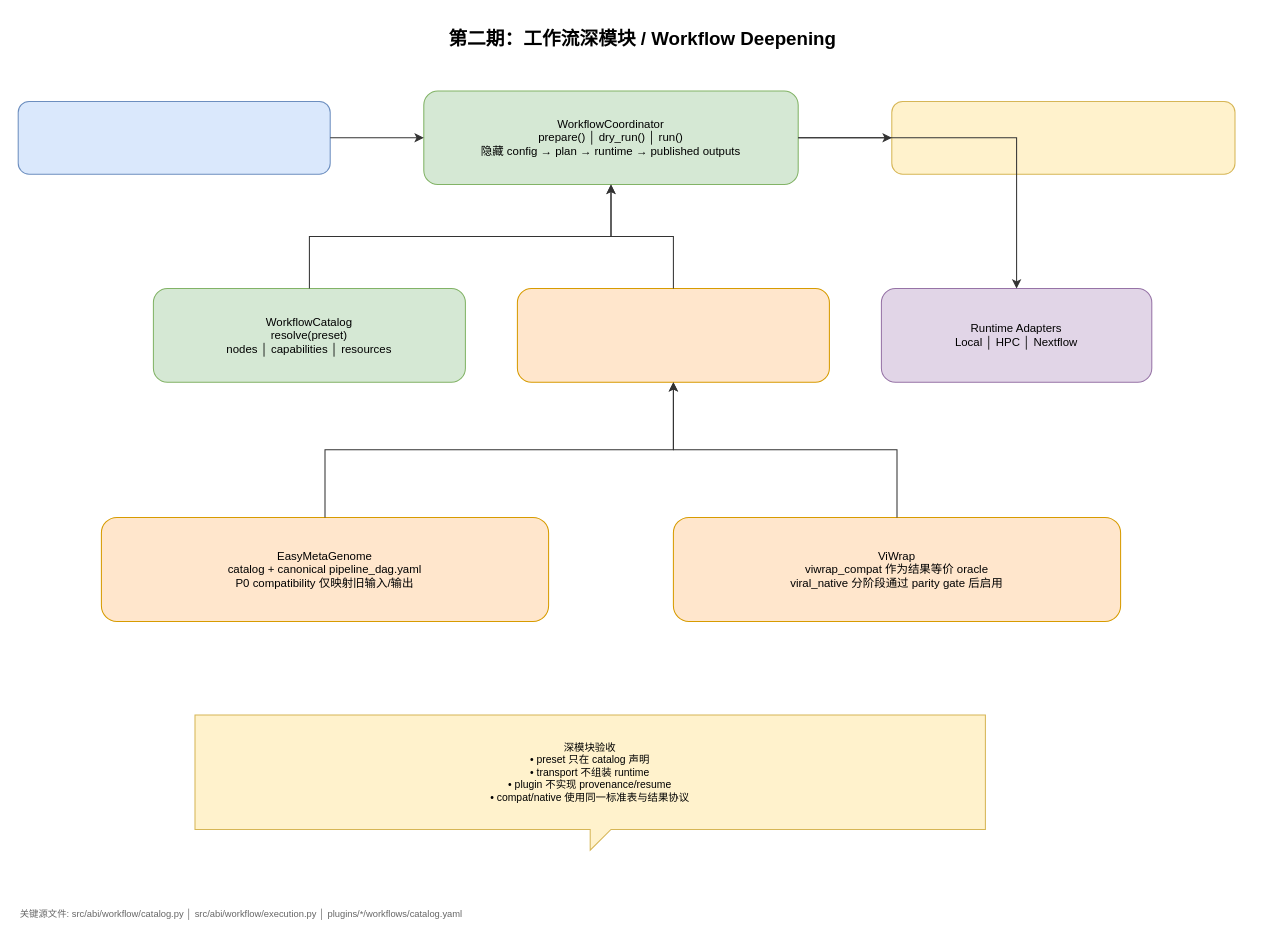
The diagram is 1284 pixels wide and 951 high, and some of its shapes have lost their labels. Each missing label, with the centre of its shape:
"Clean Plugin 生物学配置 │ sample context │ parser │ internal handlers" belongs at point 672,335.
"统一 ABI Result plan │ provenance │ tables │ report │ resume identity" belongs at point 1063,137.
"薄 Adapter CLI │ MCP │ HTTP │ Legacy P0/run_viwrap" belongs at point 173,137.
